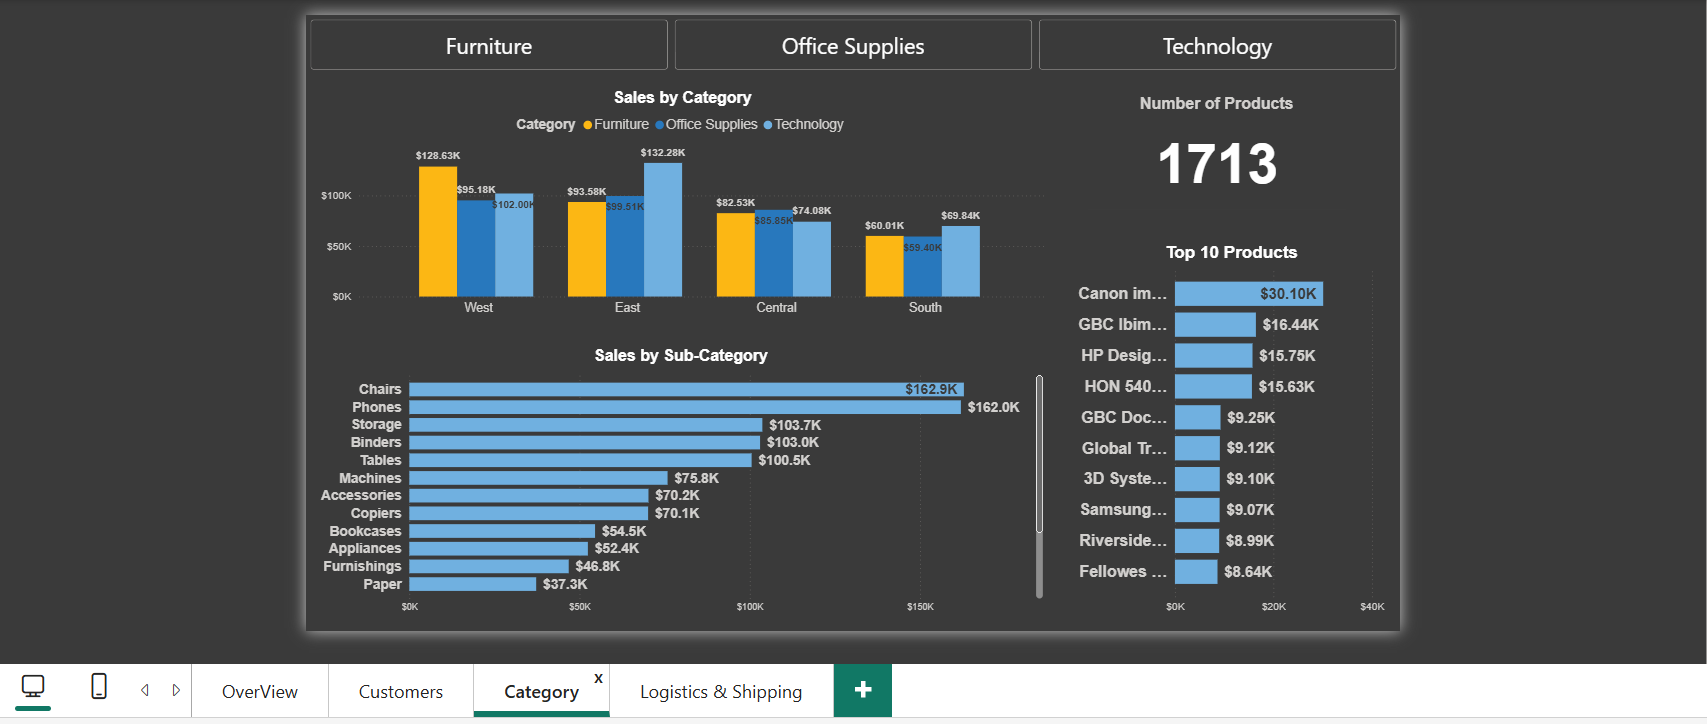

This screenshot's page, from the dashboard's own definition file:
{"tool":"powerbi","page":{"name":"Category","canvas":[1280,720],"ordinal":2},"visuals":[{"type":"clusteredColumnChart","title":"Sales by Category","fields":{"Y":["train.Total Sales"],"Category":["train.Region"],"Series":["train.Category"]},"box":[12,86,856,274],"z":0},{"type":"clusteredBarChart","title":"Sales by Sub-Category","fields":{"Category":["train.Sub-Category"],"Y":["train.Total Sales"]},"box":[11.3,387.4,856.1,319.4],"z":1000},{"type":"barChart","fields":{"Y":["train.Total Sales"],"Category":["train.Product Name"]},"box":[886.3,260.8,393.1,446],"z":2000},{"type":"advancedSlicerVisual","fields":{"Values":["train.Category"]},"box":[0,0,1280.1,69.9],"z":3000},{"type":"card","fields":{"Values":["train.Product Count"]},"box":[914.7,86.9,302.4,139.8],"z":4000}]}

Visuals, with their boxes on the page's 1280x720 design canvas (x1, y1, x2, y2). These are canvas units, not pixel positions in the 1707x724 screenshot, which may show the page scaled, cropped or inside an application window:
"Sales by Category" clusteredColumnChart: x1=12, y1=86, x2=868, y2=360
"Sales by Sub-Category" clusteredBarChart: x1=11, y1=387, x2=867, y2=707
barChart - train.Total Sales x train.Product Name: x1=886, y1=261, x2=1279, y2=707
advancedSlicerVisual - train.Category: x1=0, y1=0, x2=1280, y2=70
card - train.Product Count: x1=915, y1=87, x2=1217, y2=227
